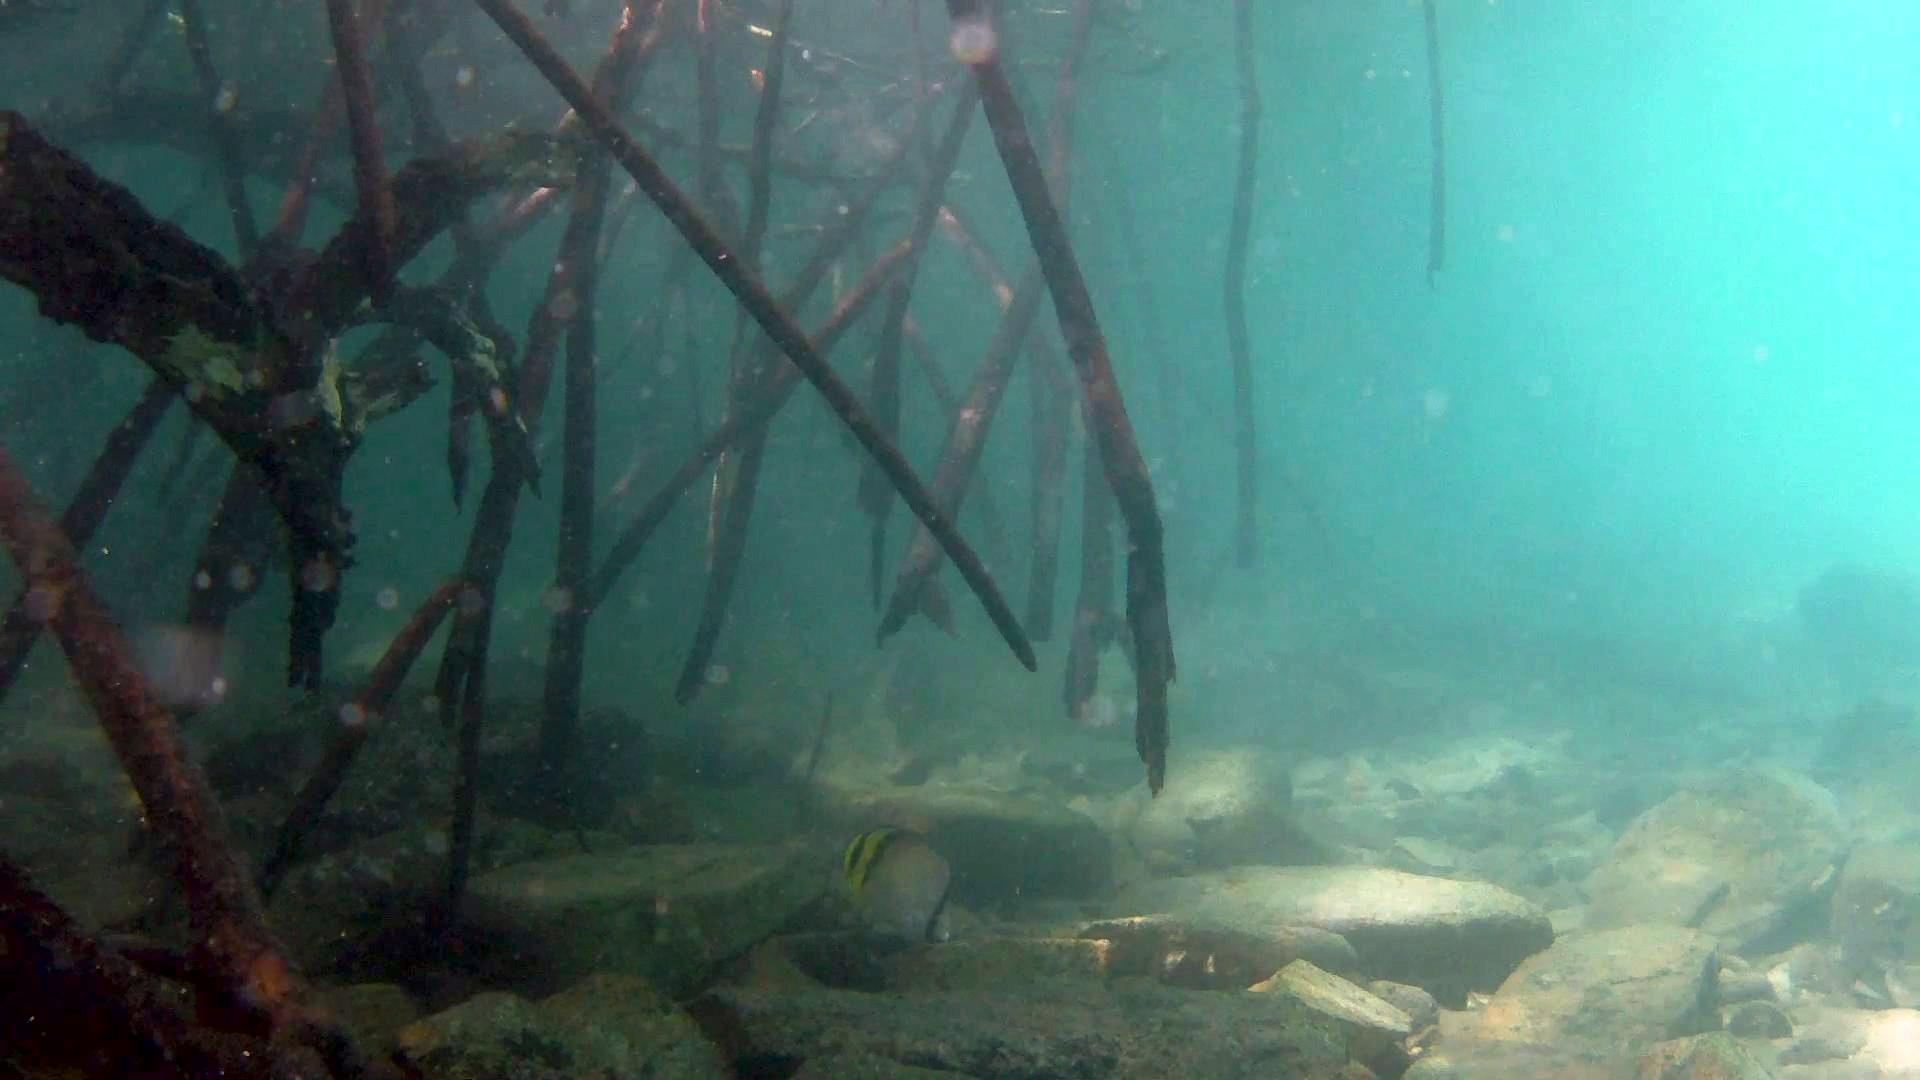chaetodon vagabundus: (839, 823, 957, 952)
